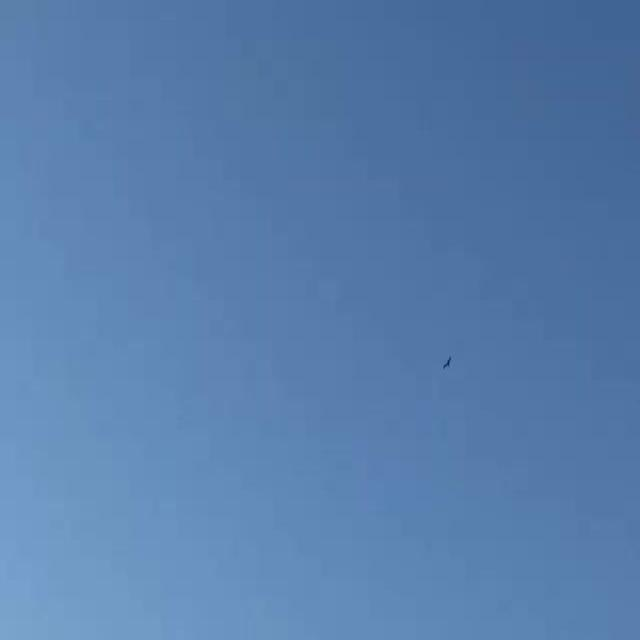bird: (440, 353, 457, 369)
